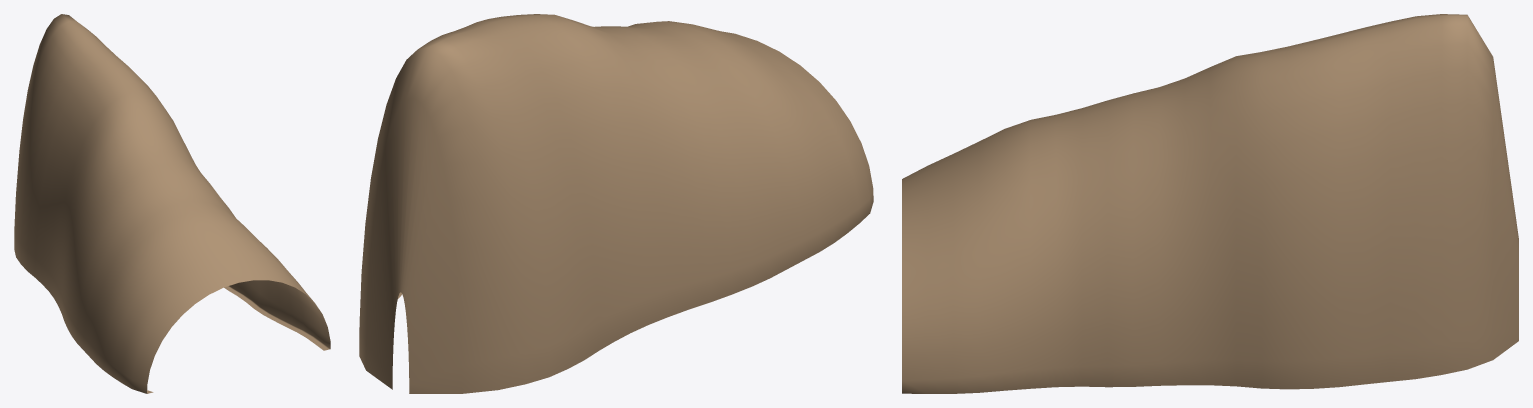
The model's file is SabatonLean_R.glb.
3 renders of one model, left to right at view 1: azimuth 30°, elevation 25°; view 2: azimuth 150°, elevation 25°; view 3: azimuth 270°, elevation 25°, orthographic. The views are drawn at different scales.
Parts seen in each view (by area): view 1: SabatonLean_R; view 2: SabatonLean_R; view 3: SabatonLean_R.
Boxes of the visible parts, x1,y1,x2,y2 form: SabatonLean_R: (14, 14, 330, 393); SabatonLean_R: (359, 14, 873, 393); SabatonLean_R: (902, 14, 1518, 393).
Size of the model in its own units: 0.1287 by 0.1375 by 0.24.
